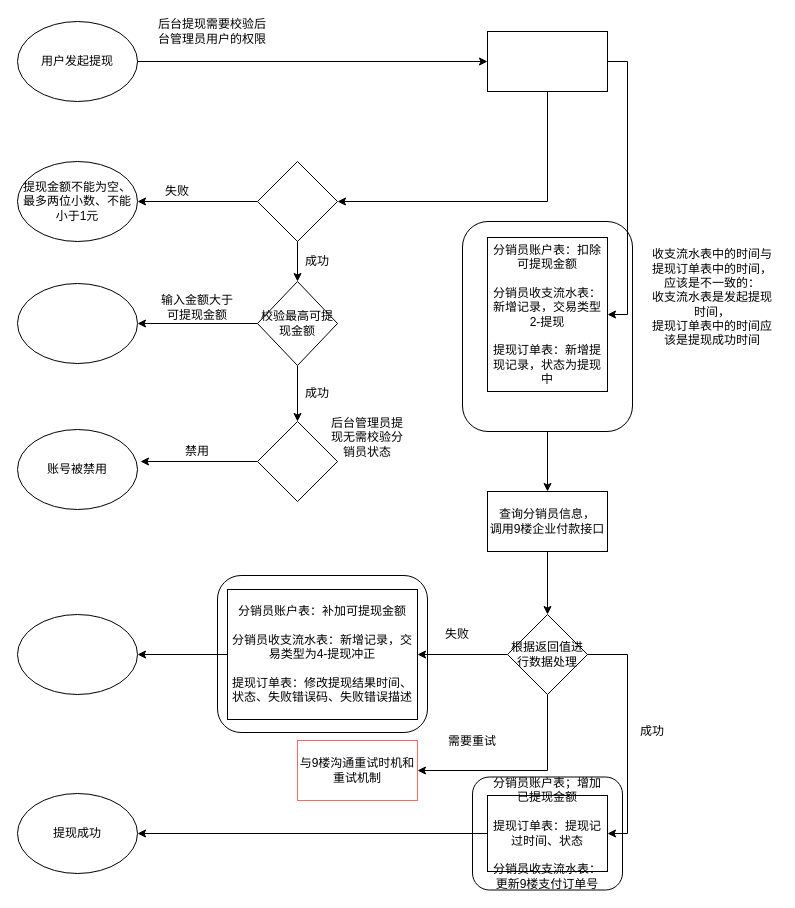
This 795x908 diagram has some shape labels left out. Here are the shapes that lost their labels. From the top down, the centre of each, then its label:
At [547,61]: "提现金额校验".
At [297,201]: "金额格式、金额限制（最高、最低）".
At [77,323]: "不能超过可提现金额".
At [297,461]: "校验账户禁用状态".
At [77,654]: "提现失败".
